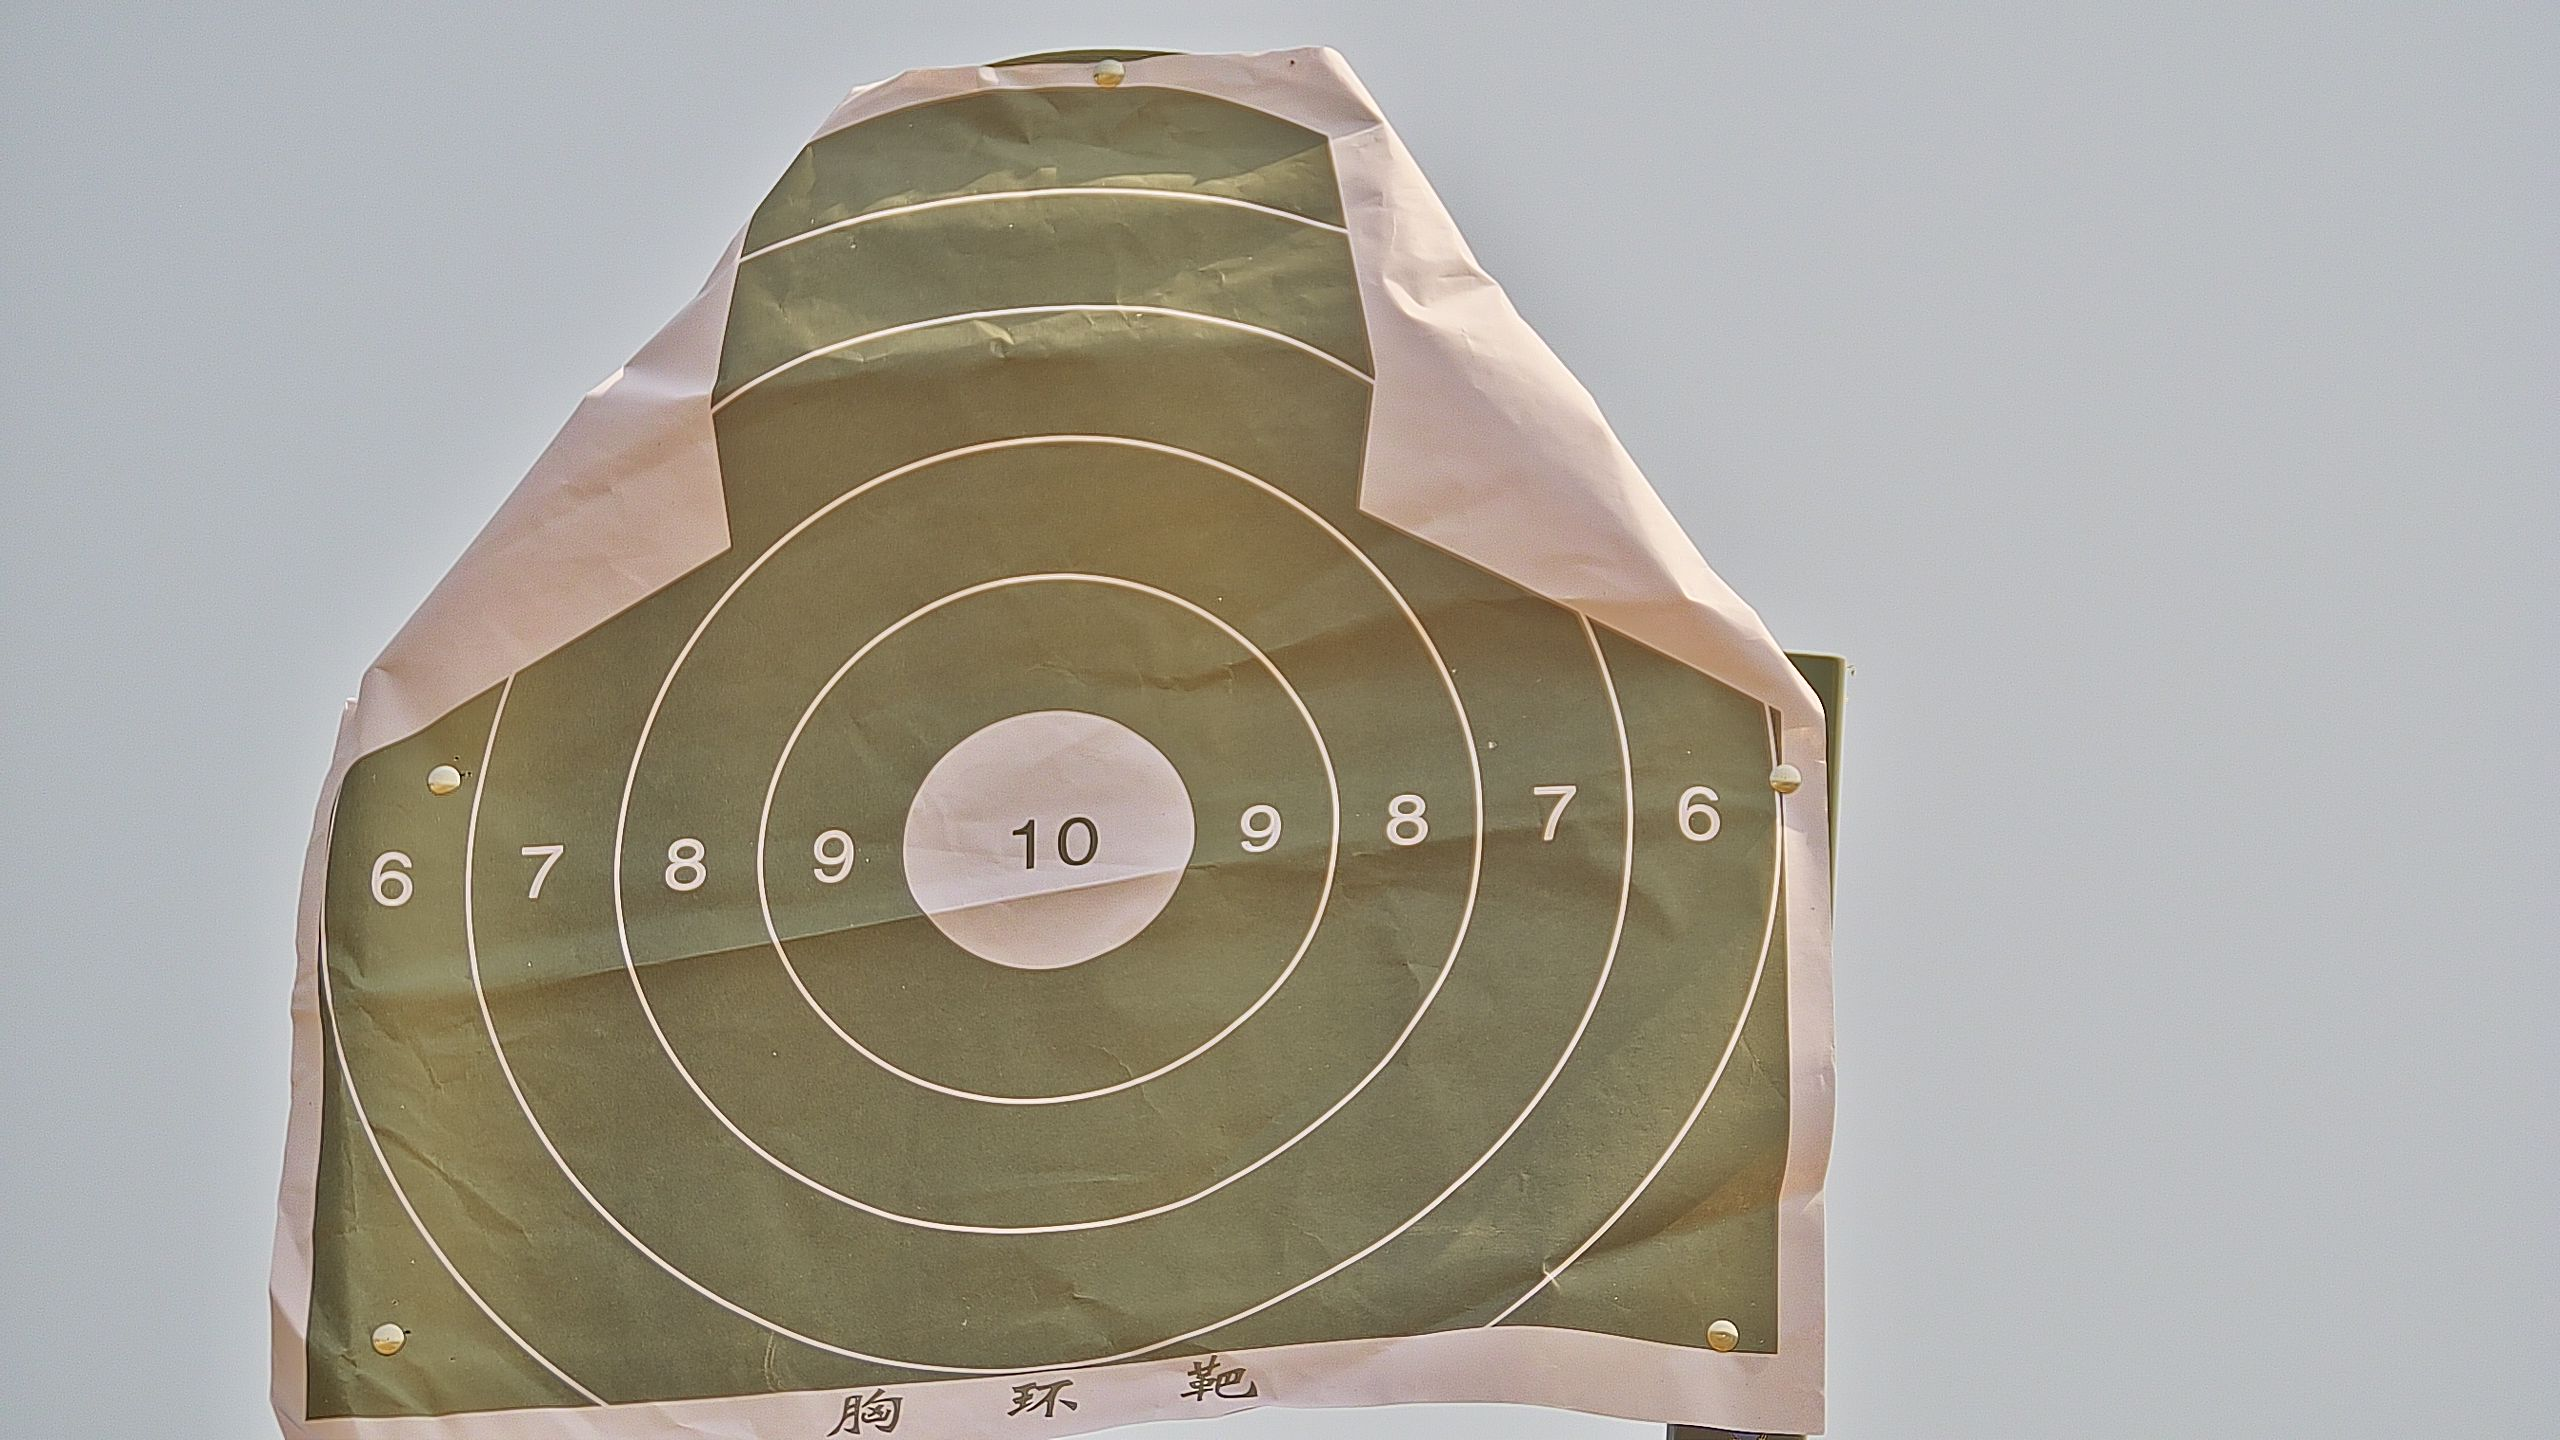kernel: (1046, 846, 1050, 851)
target: (304, 93, 1783, 1440)
ten: (900, 712, 1203, 971)
